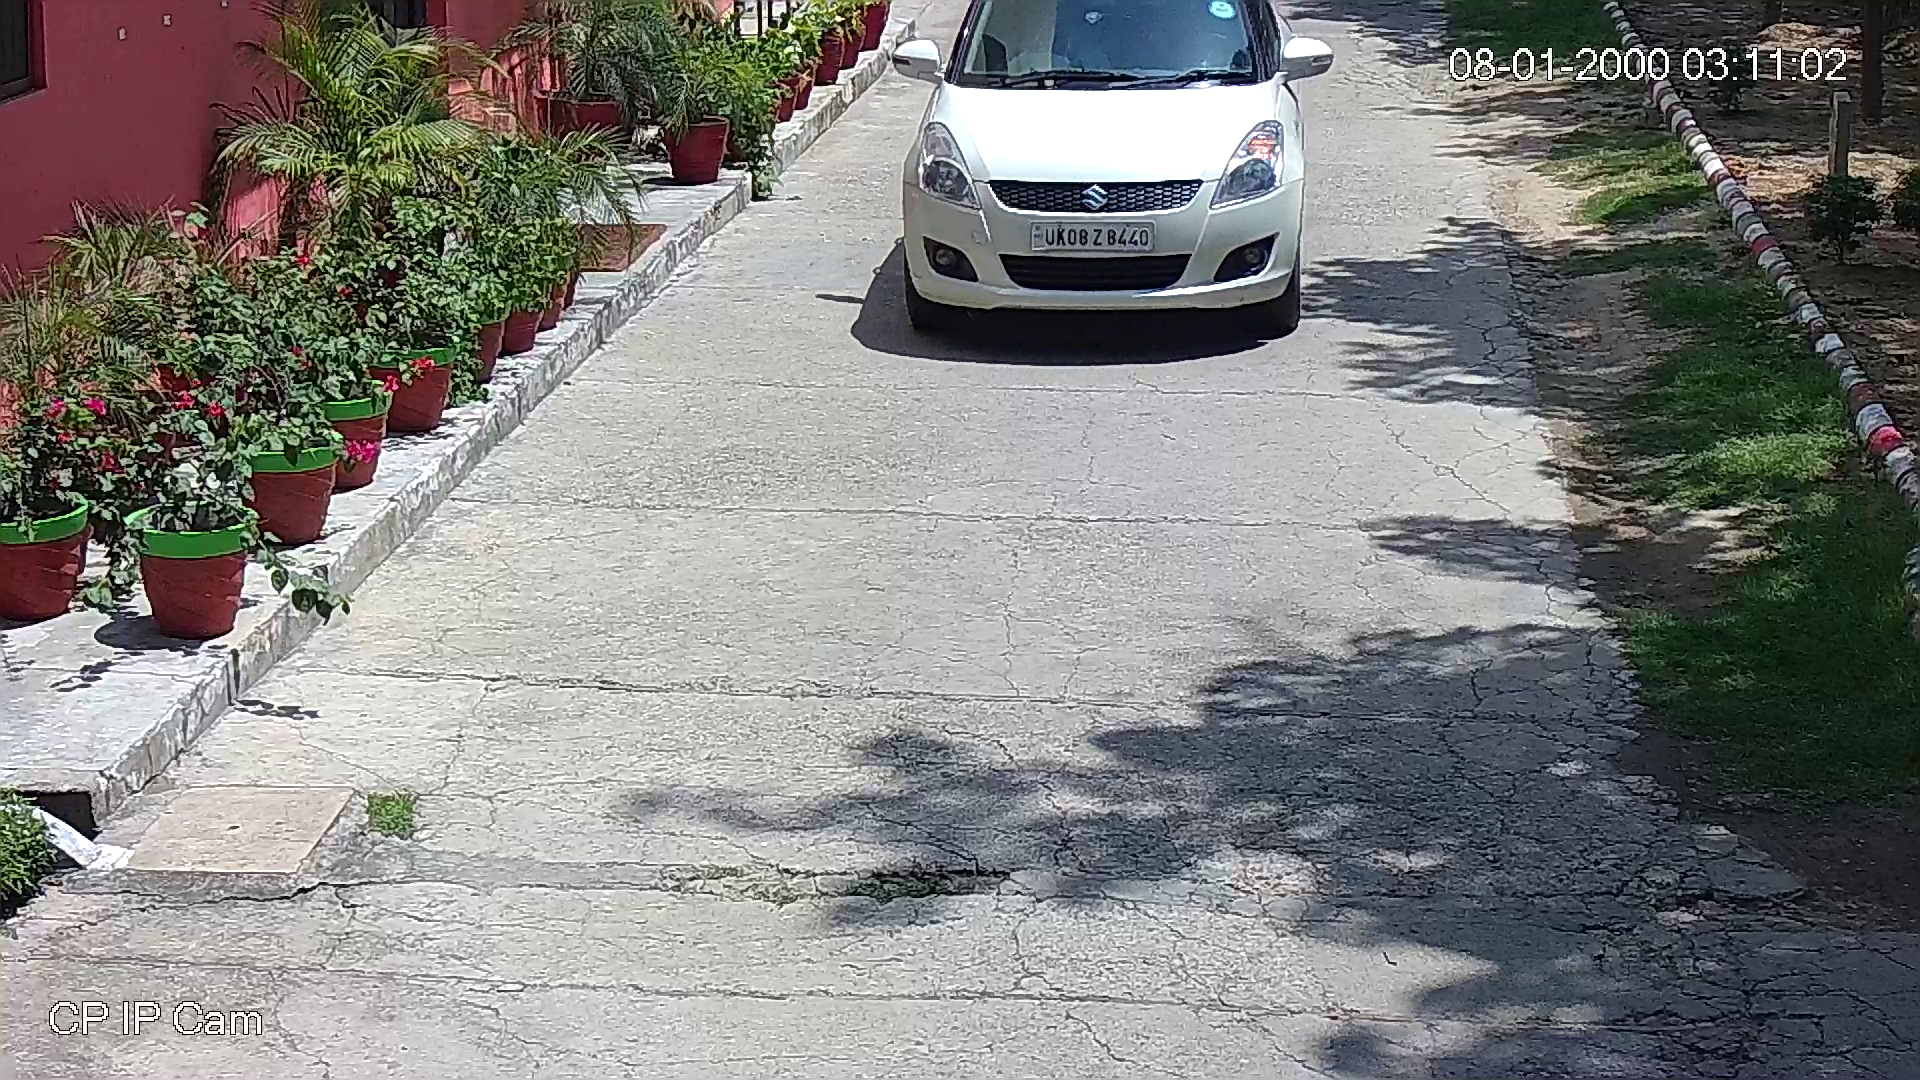plate: (1029, 220, 1158, 257)
